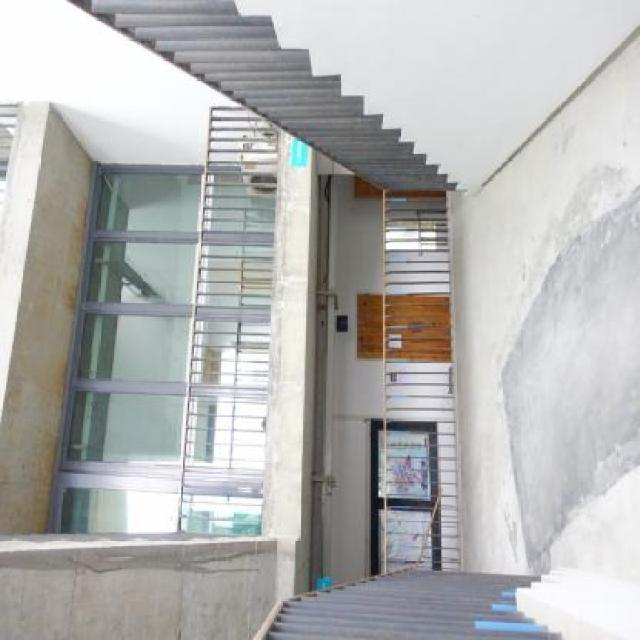stair: (233, 3, 484, 200)
